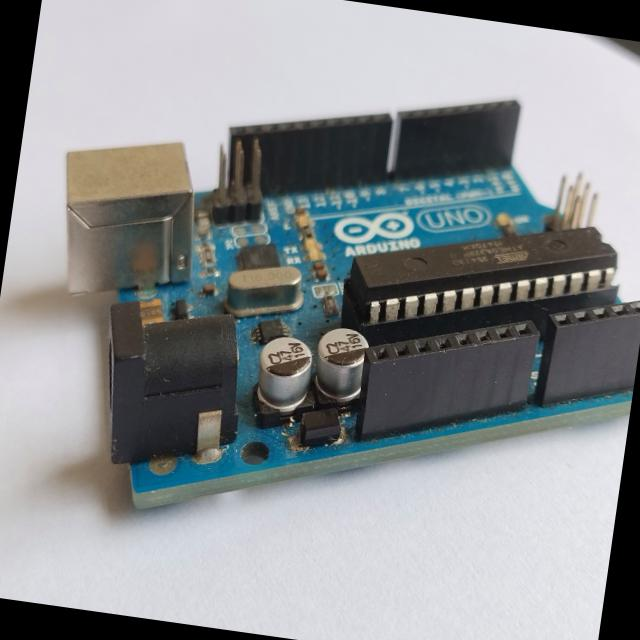arduino: (17, 20, 640, 590)
